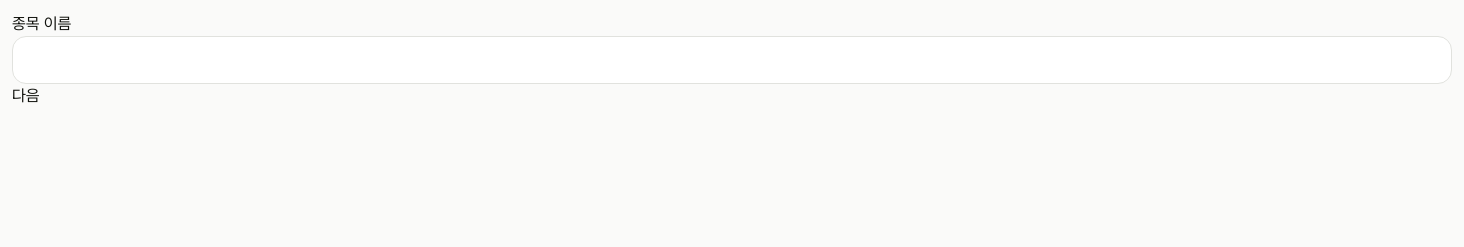
Test: 종목 자동완성 › 마우스 선택과 한글 조합 중 Enter를 지원한다
This screenshot has width=1464, height=247.
Type "풀" into the dropdown.
click(732, 60); type("풀")  # box [12, 36, 1452, 84]
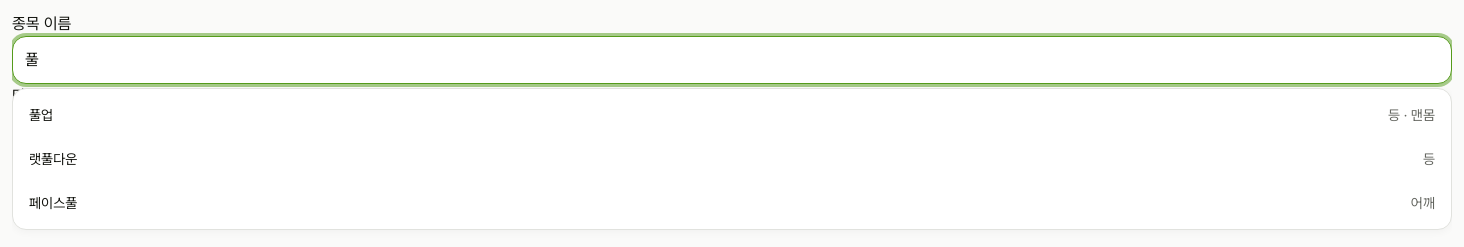
Press Arrowdown
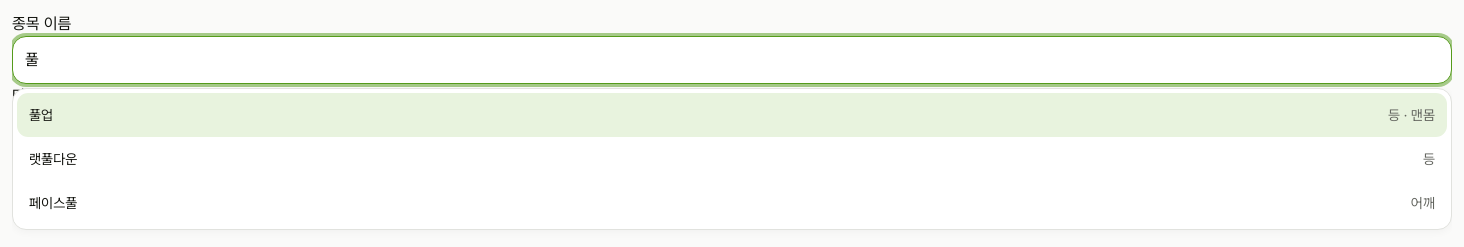
Press Enter in the dropdown, box [12, 36, 1452, 84]
Click the option with aria-label "풀업, 등, 맨몸".
click(1418, 114)  # box [17, 93, 1447, 137]
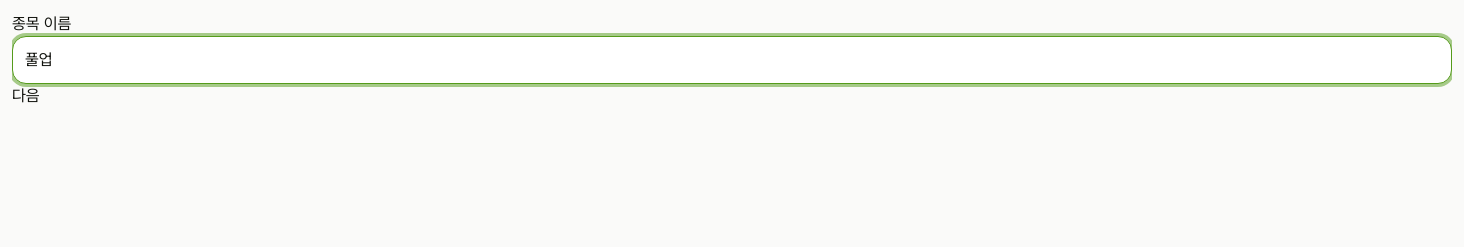
expect the dropdown holds "풀업": met, box [12, 36, 1452, 84]
